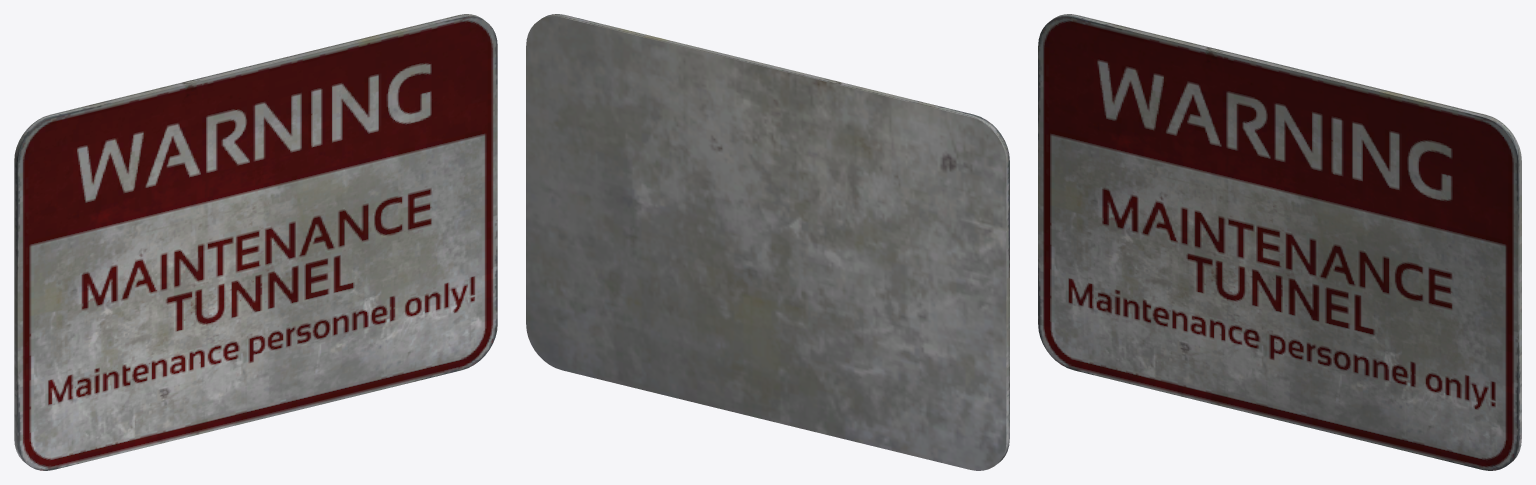
File: sign_warning_maintenance.dae
3 views of the same model, side by side, from view 1: azimuth 30°, elevation 25°; view 2: azimuth 150°, elevation 25°; view 3: azimuth 330°, elevation 25° (orthographic).
Visible parts, largest first — view 1: sign_warning_maintenance; view 2: sign_warning_maintenance; view 3: sign_warning_maintenance.
Boxes of the visible parts, bbox=[...] form: sign_warning_maintenance: bbox=[14, 14, 497, 470]; sign_warning_maintenance: bbox=[526, 14, 1009, 470]; sign_warning_maintenance: bbox=[1038, 14, 1521, 470].
Bounding box in the file's own units: 0.3985 × 0.2798 × 0.00488.
